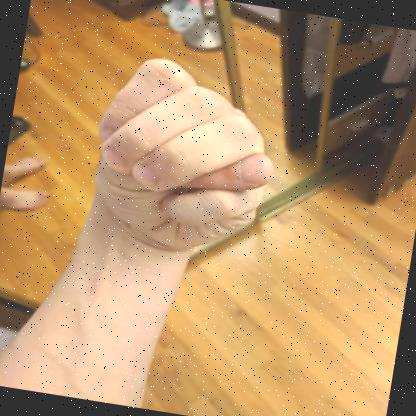M: (95, 58, 273, 251)
